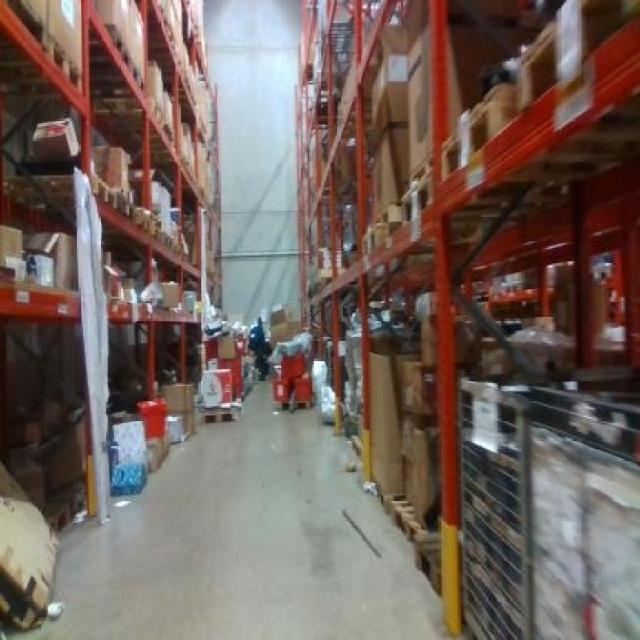pallets: (457, 378, 637, 637)
